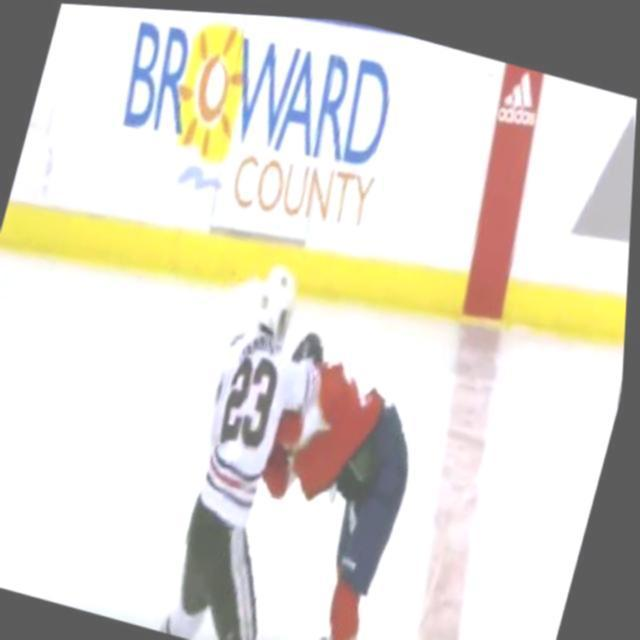fight: (140, 225, 480, 640)
